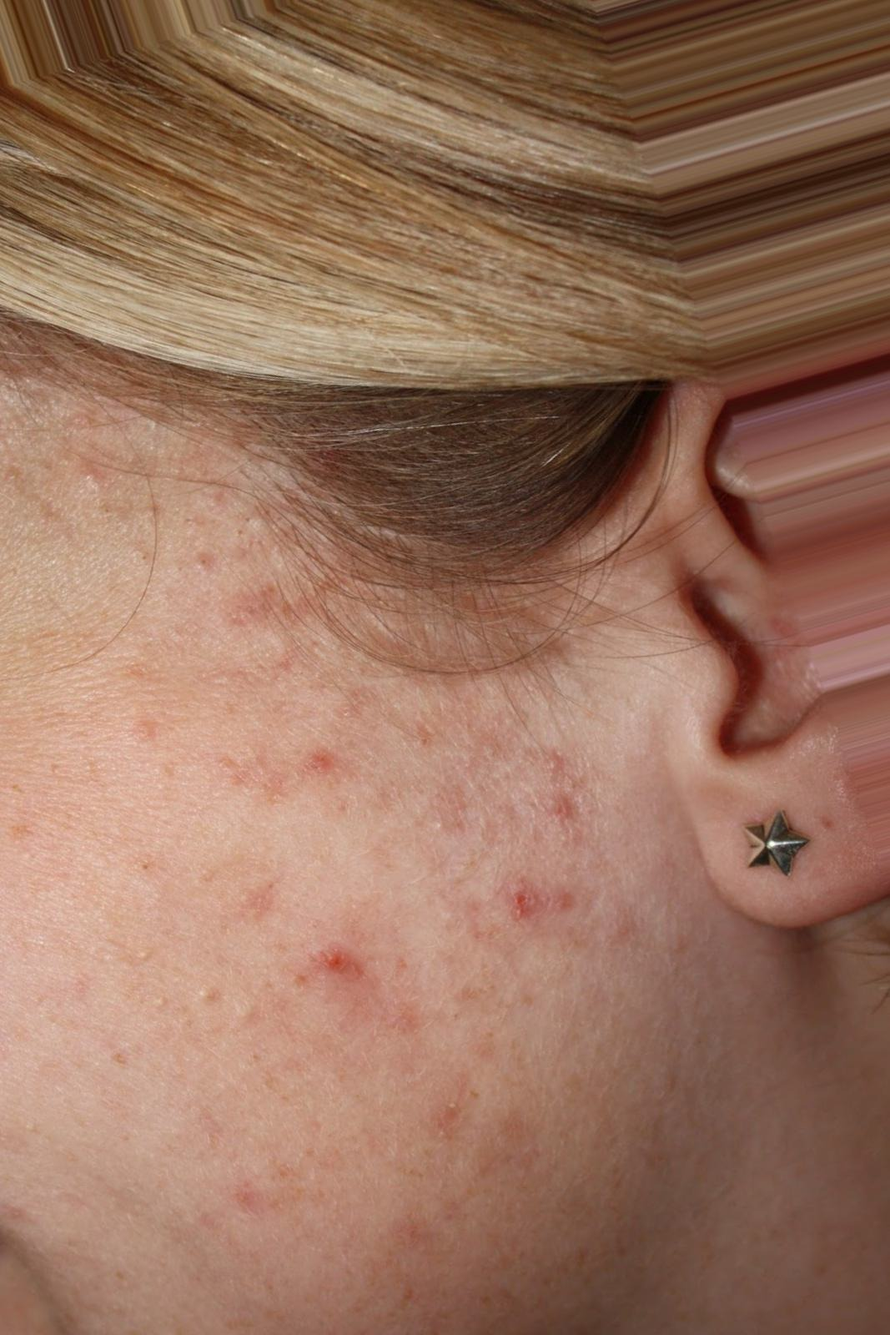Acne: (96, 471, 696, 1270)
